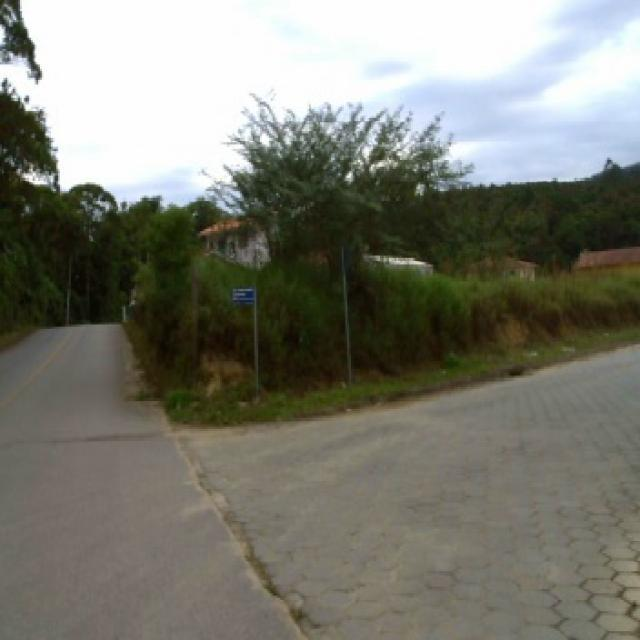Poth-hole: (187, 458, 324, 636), (18, 431, 153, 440), (506, 366, 524, 376)
